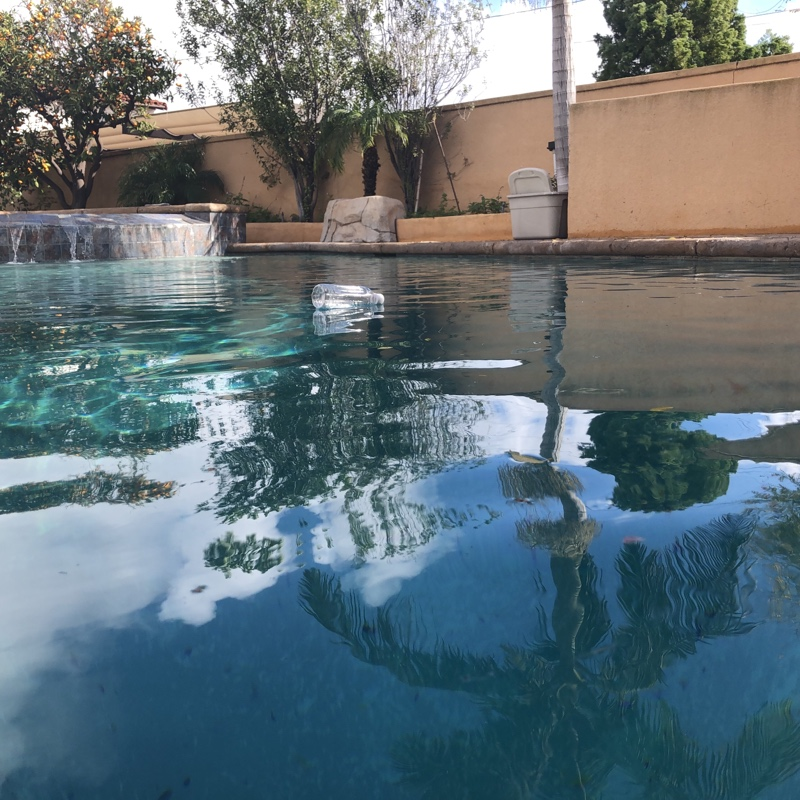Plastic Bottle: (310, 281, 386, 315)
